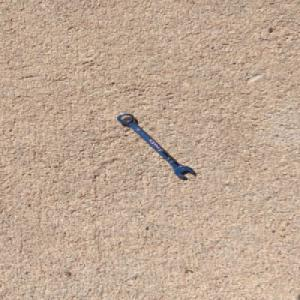Wrench: (115, 112, 195, 178)
